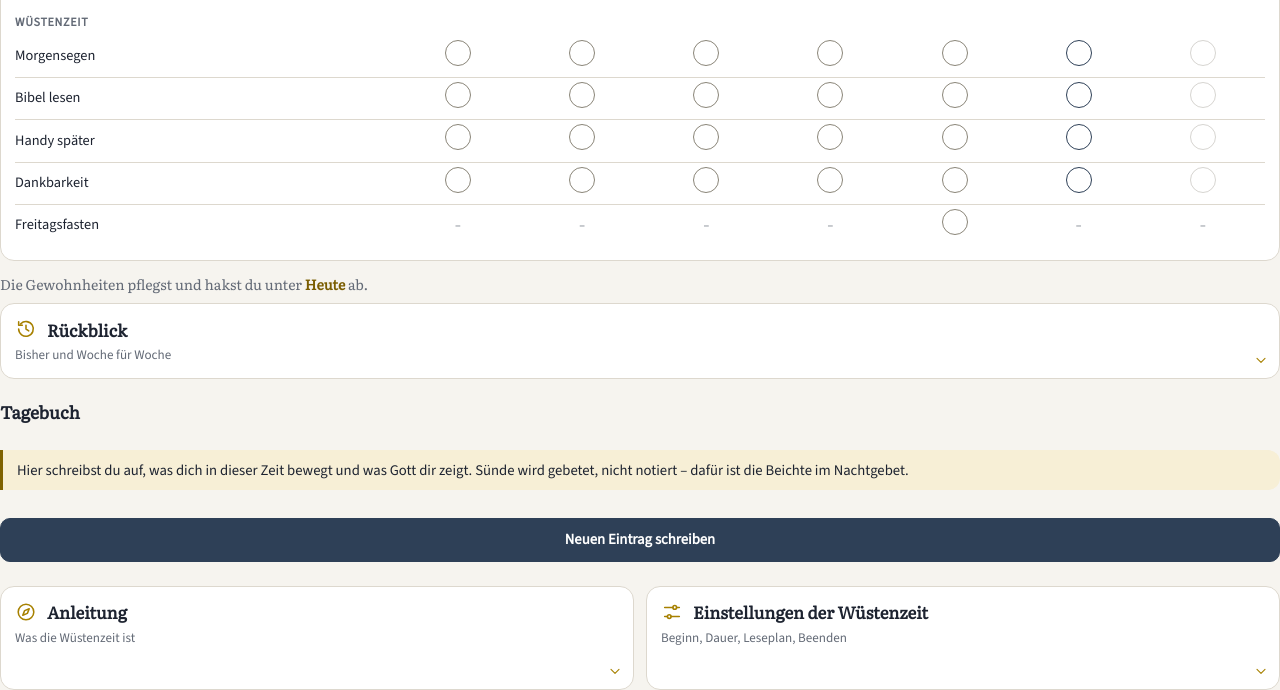
Test case: the Wüstenwanderung in the Arena › opens and closes the tiles, one at a time within a group; the settings still end the Wüstenzeit
(page scrolled)
Click the button "Anleitung Was die Wüstenzeit ist" at (87, 612), box [0, 586, 634, 689]
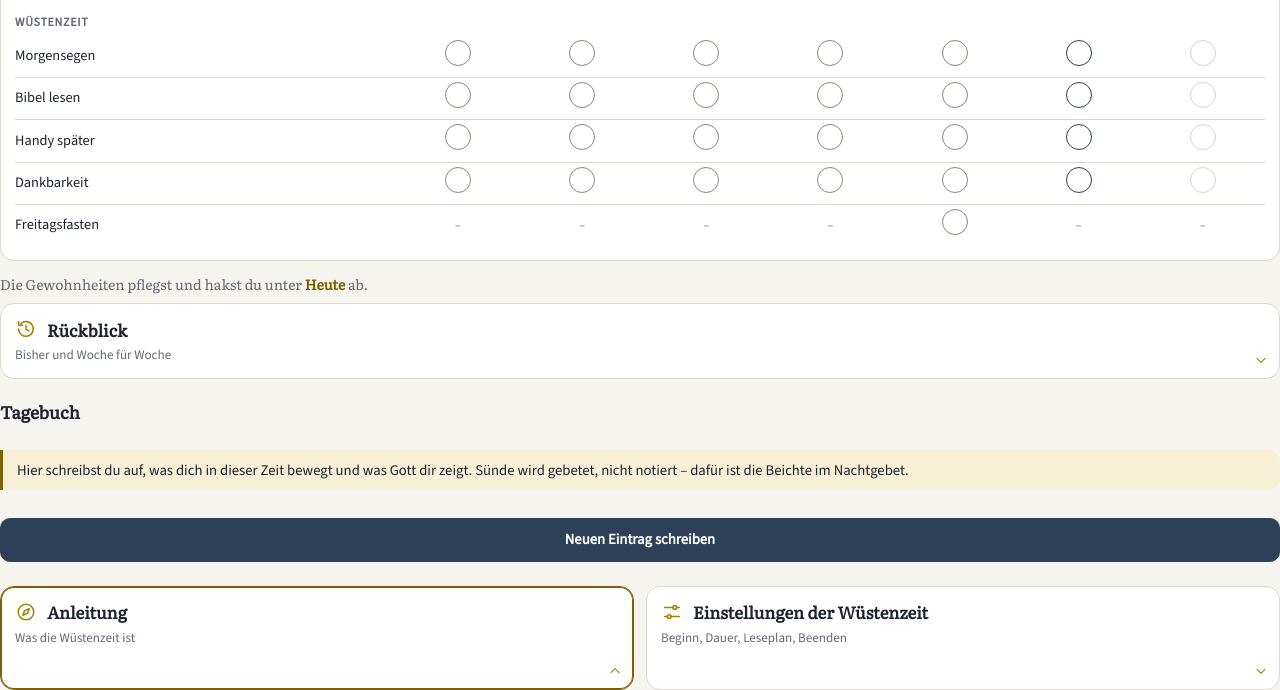
Expected: the button "Anleitung Was die Wüstenzeit ist" is expanded
# A second tap closes it.
Click the button "Anleitung Was die Wüstenzeit ist" at (87, 612), box [0, 586, 634, 689]
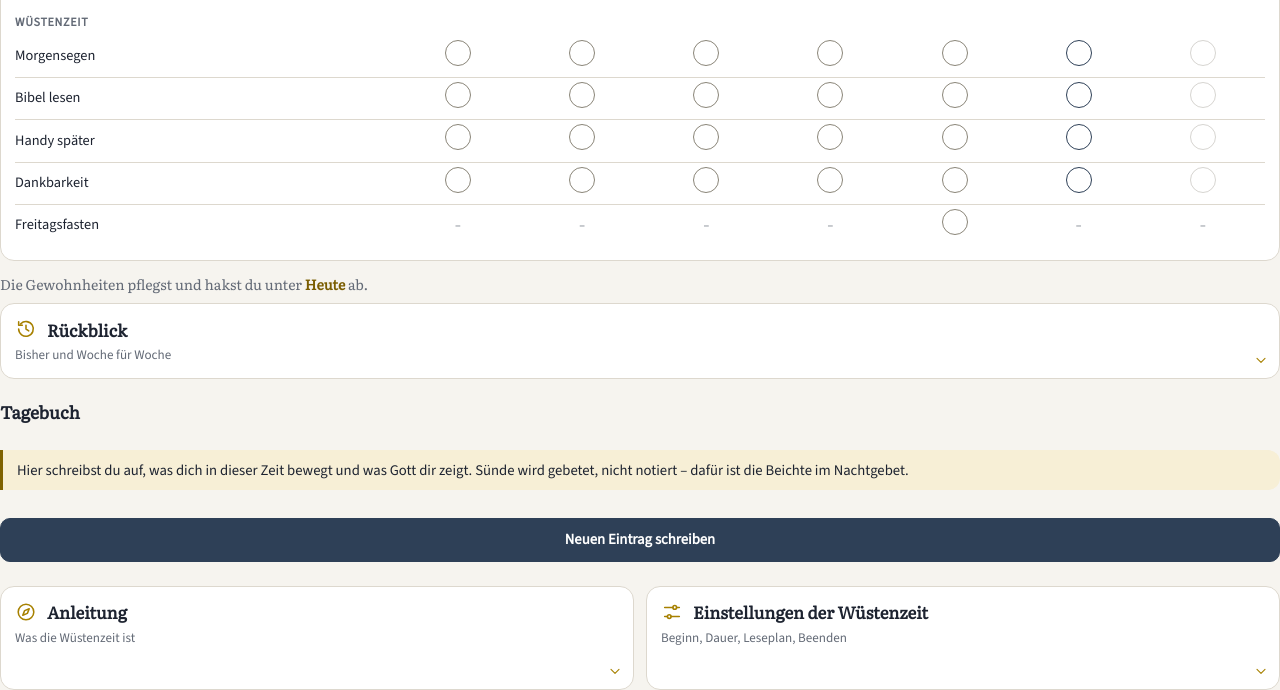
Expected: the button "Anleitung Was die Wüstenzeit ist" is collapsed
Click the button "Anleitung Was die Wüstenzeit ist" at (87, 612), box [0, 586, 634, 689]
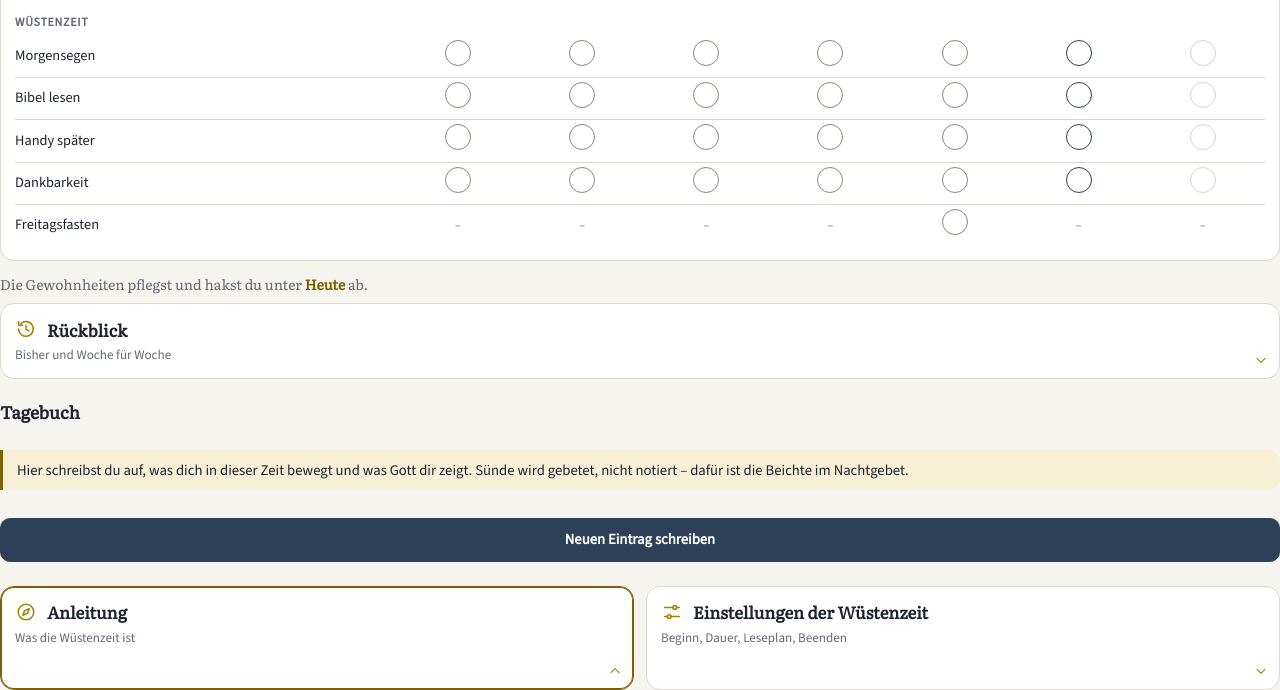
Click the button "Einstellungen der Wüstenzeit" at (811, 612), box [646, 586, 1279, 689]
(page scrolled)
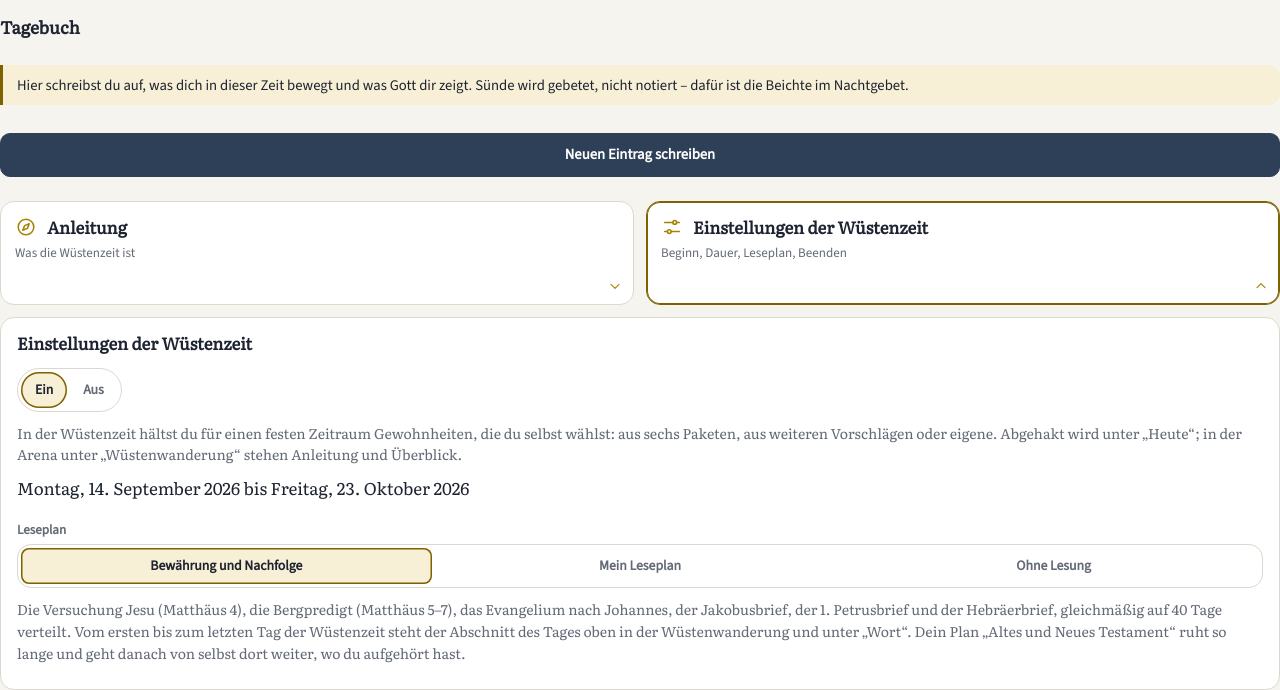
Expected: the button "Anleitung Was die Wüstenzeit ist" is collapsed, [0, 201, 634, 305]
Expected: the button "Einstellungen der Wüstenzeit" is expanded, [646, 201, 1279, 305]
Click the button "Aus" at (94, 390), box [69, 372, 118, 408]
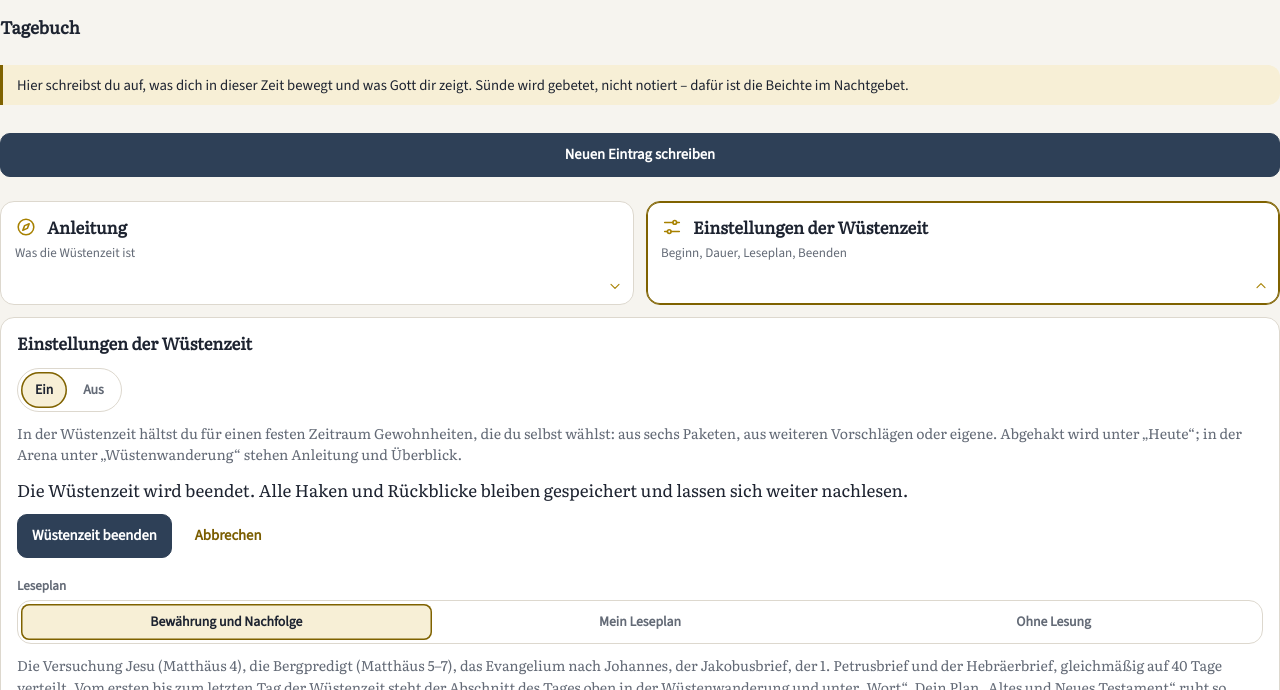
Click the button "Wüstenzeit beenden" at (94, 536), box [17, 514, 172, 558]
(page scrolled)
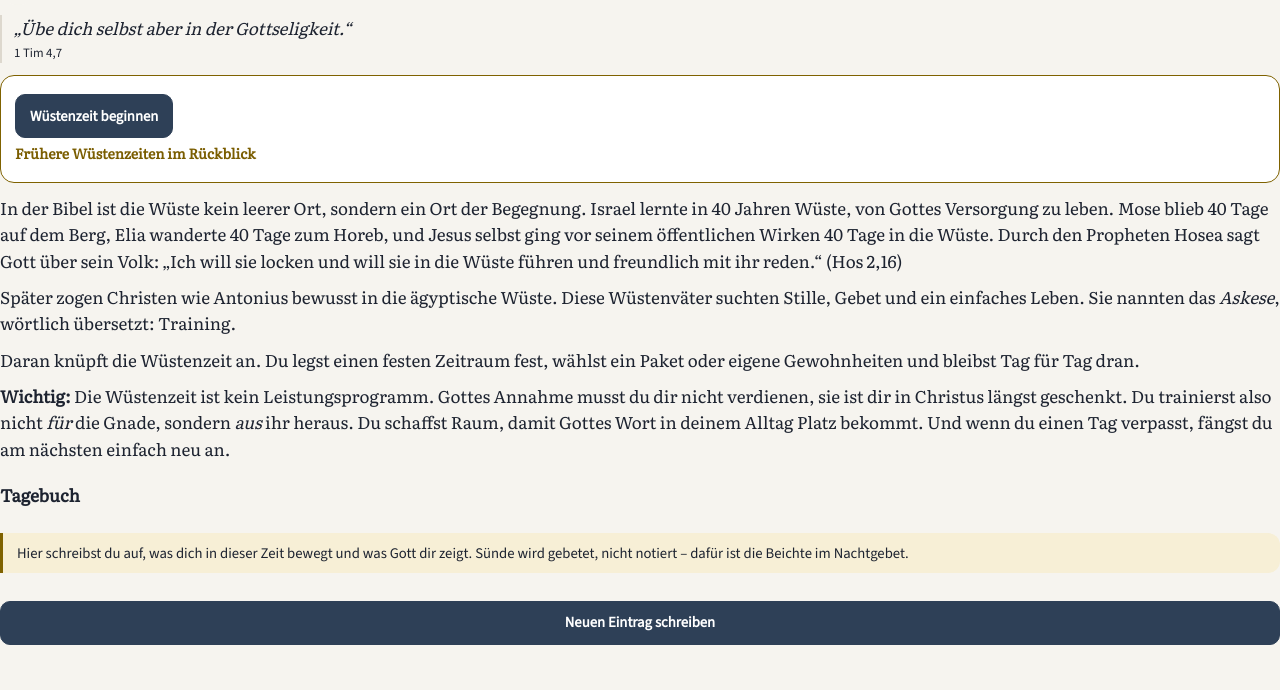
Expected: the button "Wüstenzeit beginnen" is shown, [15, 94, 173, 138]
